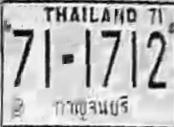1: (43, 29, 51, 86), (84, 28, 91, 87), (131, 31, 137, 88)
2: (146, 31, 167, 90)
7: (100, 28, 121, 86), (12, 28, 33, 85)
KRI: (49, 93, 131, 119)
